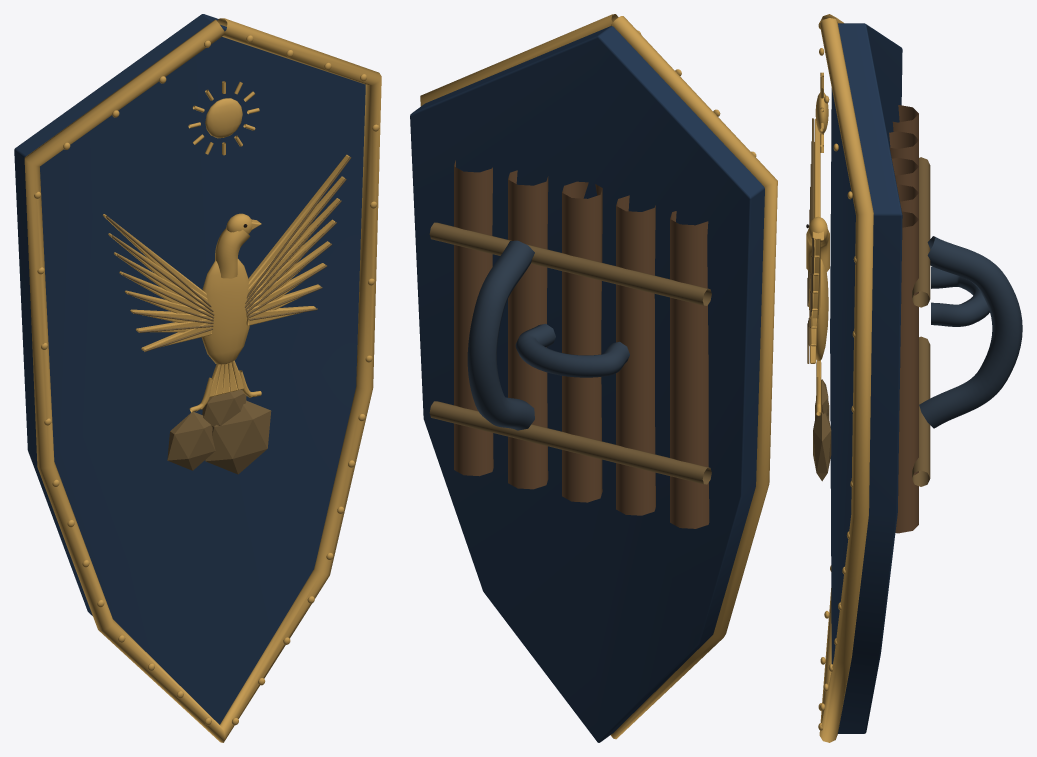
Rendered from EDH_Heinrich_Shield.glb.
3 views of the same model, side by side, from view 1: azimuth 30°, elevation 25°; view 2: azimuth 150°, elevation 25°; view 3: azimuth 270°, elevation 25° (orthographic).
Visible parts, largest first — view 1: Shield | convex enamel shell, Shield | solid brass perimeter, Shield | eagle breast, Shield | heraldic rock.001, Shield | heraldic rock, Shield | sun disc, Shield | eagle wing feather.008, Shield | eagle neck, Shield | heraldic rock.002, Shield | eagle wing feather, Shield | eagle wing feather.009, Shield | eagle wing feather.010; view 2: Shield | convex enamel shell, Shield | solid brass perimeter, Shield | timber rear rib, Shield | timber rear rib.001, Shield | timber rear rib.002, Shield | timber rear rib.003, Shield | timber rear rib.004, Shield | forearm strap, Shield | rear cross brace, Shield | rear cross brace.001, Shield | hand grip; view 3: Shield | convex enamel shell, Shield | solid brass perimeter, Shield | forearm strap, Shield | timber rear rib.004, Shield | hand grip, Shield | rear cross brace.001, Shield | rear cross brace, Shield | heraldic rock.001, Shield | eagle breast, Shield | timber rear rib.001, Shield | timber rear rib.002, Shield | eagle wing feather (+4 smaller).
Boxes of the visible parts, x1,y1,x2,y2 form: Shield | convex enamel shell: (14, 14, 365, 724); Shield | solid brass perimeter: (24, 18, 381, 742); Shield | eagle breast: (201, 258, 249, 364); Shield | heraldic rock.001: (205, 400, 271, 474); Shield | heraldic rock: (167, 412, 215, 470); Shield | sun disc: (205, 98, 242, 138); Shield | eagle wing feather.008: (248, 154, 349, 286); Shield | eagle neck: (215, 228, 250, 278); Shield | heraldic rock.002: (202, 390, 246, 427); Shield | eagle wing feather: (103, 214, 206, 297); Shield | eagle wing feather.009: (248, 176, 344, 291); Shield | eagle wing feather.010: (248, 198, 339, 296); Shield | convex enamel shell: (410, 26, 764, 742); Shield | solid brass perimeter: (420, 14, 777, 739); Shield | timber rear rib: (670, 211, 709, 528); Shield | timber rear rib.001: (616, 195, 655, 515); Shield | timber rear rib.002: (562, 181, 602, 502); Shield | timber rear rib.003: (508, 170, 548, 489); Shield | timber rear rib.004: (454, 160, 493, 476); Shield | forearm strap: (467, 240, 534, 430); Shield | rear cross brace: (429, 401, 711, 484); Shield | rear cross brace.001: (429, 222, 711, 305); Shield | hand grip: (515, 323, 629, 377); Shield | convex enamel shell: (830, 23, 902, 733); Shield | solid brass perimeter: (819, 14, 873, 742); Shield | forearm strap: (919, 236, 1022, 428); Shield | timber rear rib.004: (895, 211, 918, 533); Shield | hand grip: (931, 266, 989, 326); Shield | rear cross brace.001: (912, 157, 930, 307); Shield | rear cross brace: (912, 336, 930, 486); Shield | heraldic rock.001: (813, 412, 831, 481); Shield | eagle breast: (809, 259, 828, 360); Shield | timber rear rib.001: (889, 131, 918, 165); Shield | timber rear rib.002: (892, 157, 918, 192); Shield | eagle wing feather: (814, 118, 820, 217).
Bounding box in the file's own units: 0.6242 × 1.22 × 0.328.
